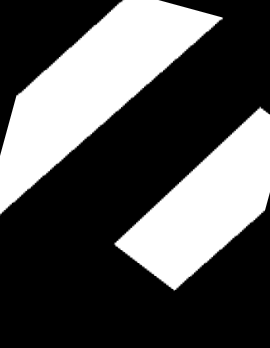parkingspot: (0, 0, 223, 214), (114, 107, 270, 290)
